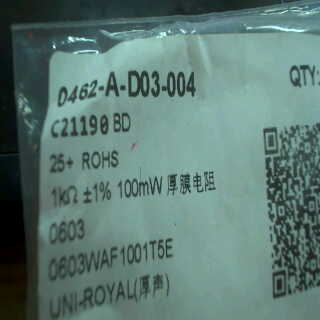1kR: (48, 180, 83, 213)
